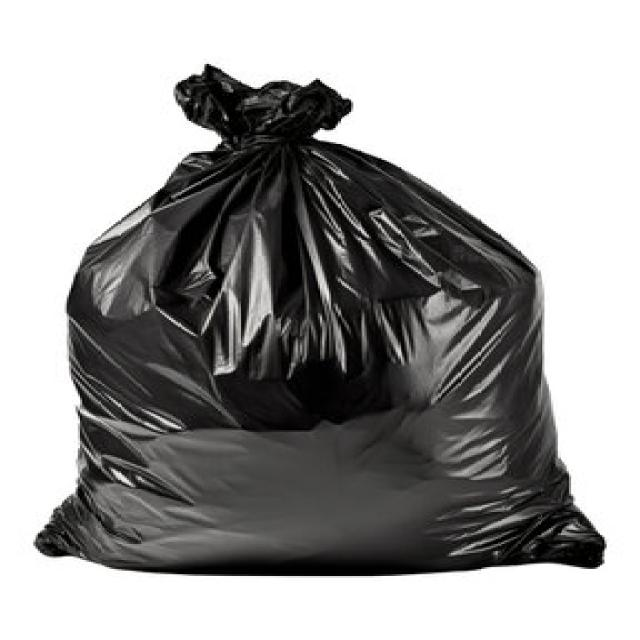trash: (78, 64, 556, 564)
